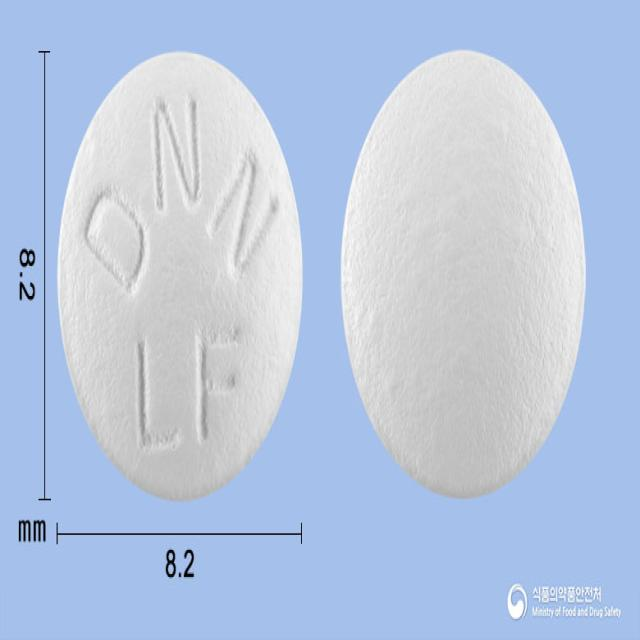Doxymycin N: (57, 51, 305, 503)
